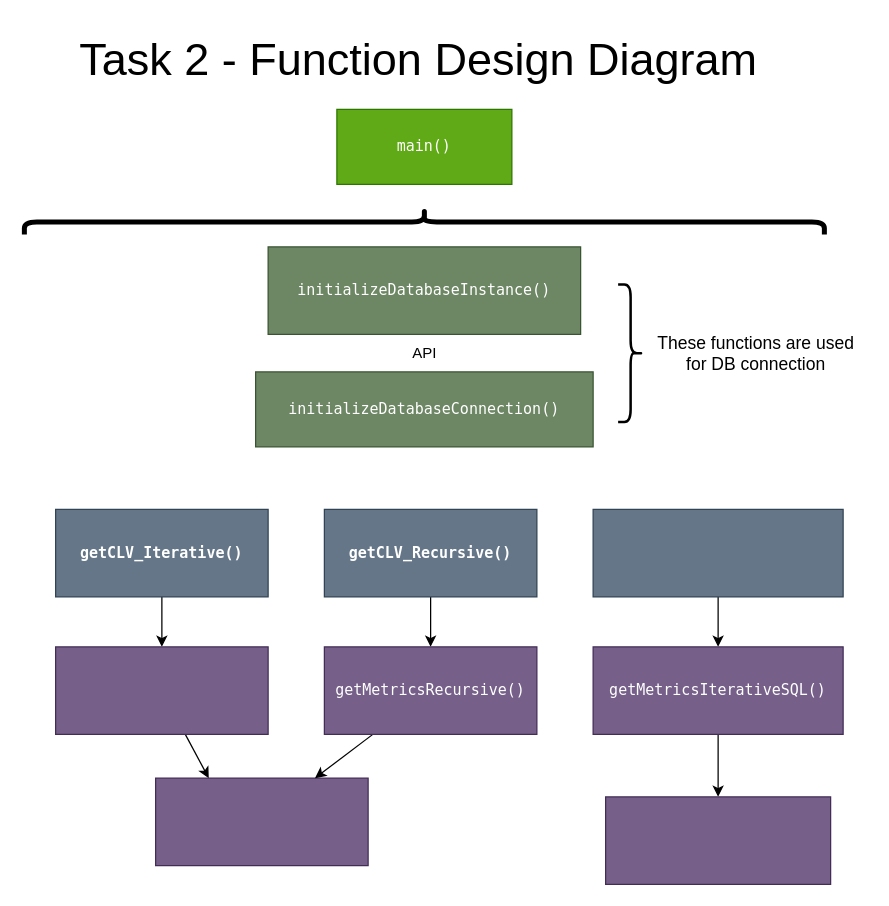
The diagram is 889 pixels wide and 906 high, and some of its shapes have lost their labels. Each missing label, with the box of its shape:
getCLV_IterativeSQL(): (592, 508, 843, 597)
getMetricsIterative(): (54, 646, 268, 734)
getUniqueCustomers(): (154, 777, 368, 866)
getUniqueCustomersSQL(): (604, 796, 831, 884)
